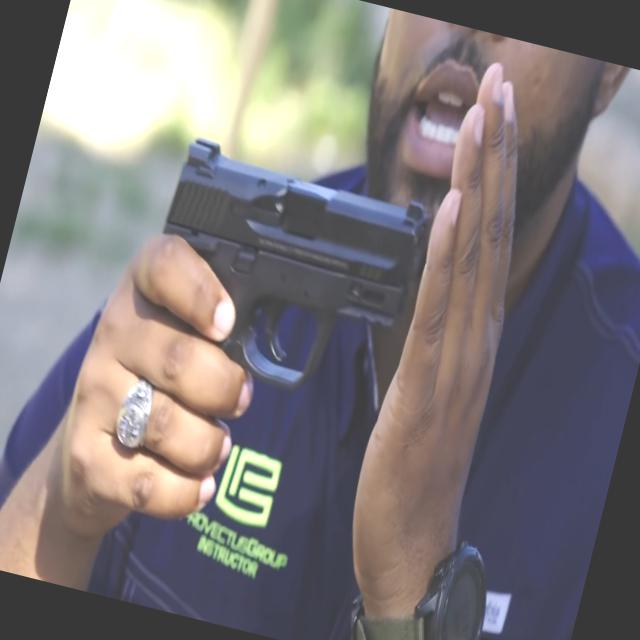handgun: (84, 106, 468, 478)
